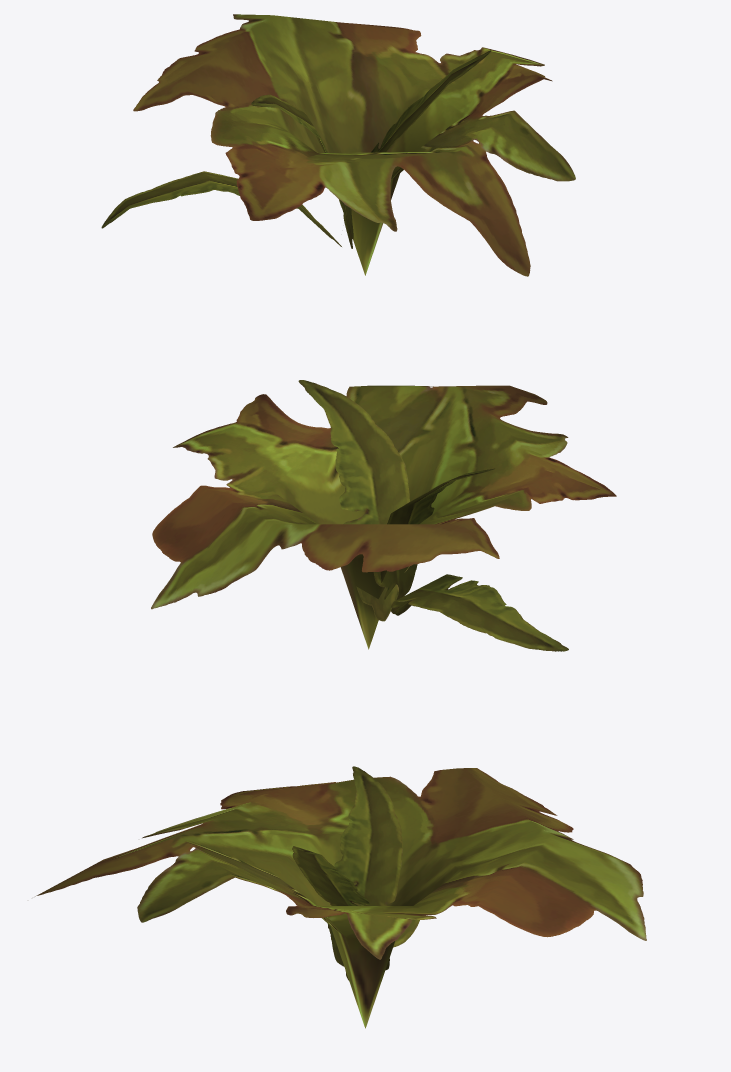
The model's file is SL_guangmu01.FBX.
The picture shows the model from 3 angles, top to bottom: view 1: azimuth 30°, elevation 25°; view 2: azimuth 150°, elevation 25°; view 3: azimuth 270°, elevation 25°; orthographic projection.
Visible parts, largest first — view 1: Torus02, 对象304, 对象302, 对象303; view 2: Torus02, 对象302, 对象304, 对象303; view 3: Torus02, 对象303, 对象302.
Part boxes in pixels (x1,y1,x2,y2): Torus02: [133, 14, 575, 276]; 对象304: [101, 171, 341, 246]; 对象302: [371, 50, 491, 152]; 对象303: [251, 94, 353, 248]; Torus02: [151, 385, 616, 649]; 对象302: [298, 380, 409, 621]; 对象304: [391, 574, 568, 651]; 对象303: [373, 468, 494, 613]; Torus02: [35, 768, 646, 1028]; 对象303: [328, 766, 402, 980]; 对象302: [292, 846, 389, 970].
Bounding box in the file's own units: 237 × 102 × 272.
